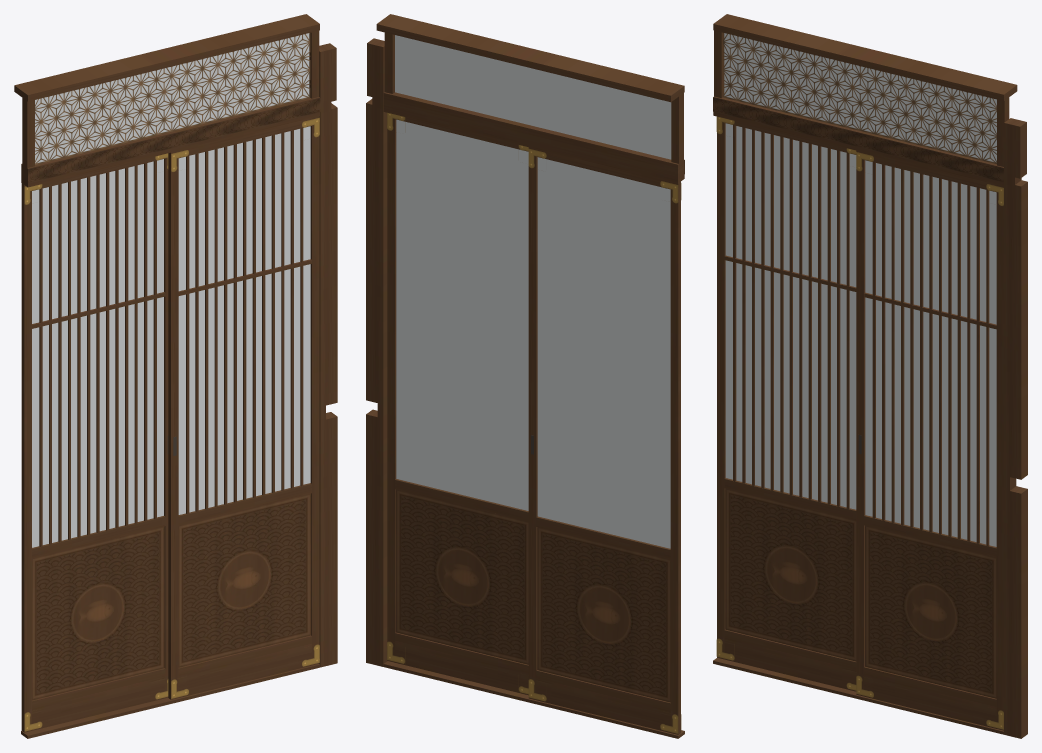
The model's file is genkandoor.glb.
3 views of the same model, side by side, from view 1: azimuth 30°, elevation 25°; view 2: azimuth 150°, elevation 25°; view 3: azimuth 330°, elevation 25° (orthographic).
Visible parts, largest first — view 1: GenkanDoorN, GenkanDoorS, GenkanDoorFrame; view 2: GenkanDoorS, GenkanDoorN, GenkanDoorFrame; view 3: GenkanDoorN, GenkanDoorS, GenkanDoorFrame.
Part boxes in pixels (bbox=[...]): GenkanDoorN: bbox=[168, 116, 319, 699]; GenkanDoorS: bbox=[21, 153, 168, 732]; GenkanDoorFrame: bbox=[14, 14, 337, 738]; GenkanDoorS: bbox=[528, 147, 681, 734]; GenkanDoorN: bbox=[387, 112, 528, 695]; GenkanDoorFrame: bbox=[366, 14, 684, 738]; GenkanDoorN: bbox=[856, 150, 1003, 730]; GenkanDoorS: bbox=[716, 116, 856, 691]; GenkanDoorFrame: bbox=[713, 14, 1027, 738].
Bounding box in the file's own units: 1.21 × 2.4 × 0.0932.
7 materials, 5 textured.
